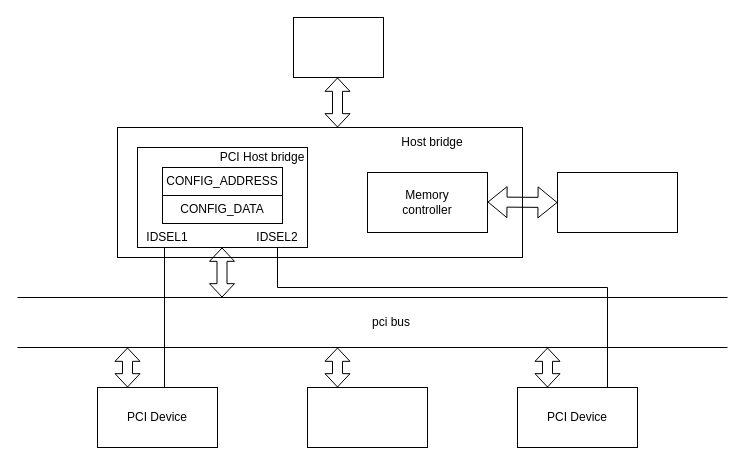
Some shapes in this 746 by 465 pixel diagram are drawn without their labels. Each missing label, with the centre of its shape:
"CPU" goes at pixel 338 47.
"PCI-to-PCI Bridge" goes at pixel 367 417.
"RAM" goes at pixel 617 202.
